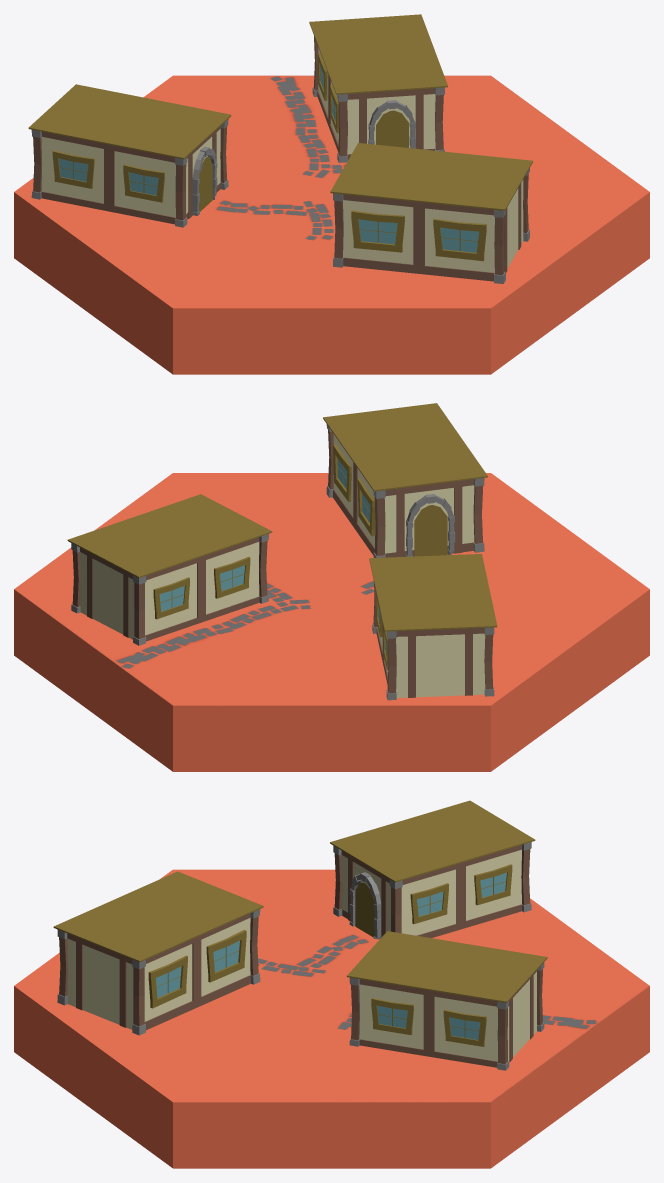
The model's file is Tuile_Village_N1.fbx.
The picture shows the model from 3 angles, top to bottom: view 1: azimuth 30°, elevation 25°; view 2: azimuth 150°, elevation 25°; view 3: azimuth 270°, elevation 25°; orthographic projection.
Visible parts, largest first — view 1: CHEMIN, socle.003, base House.003, socle.001, socle.002, base House.001, base House.002, windows bas.003, windows bas.001, poutre bas.001, poutre bas.004, door.002 (+3 smaller); view 2: CHEMIN, socle.003, base House.002, socle.002, socle.001, base House.001, base House.003, door.003, windows bas.002, poutre bas.005, poutre bas.001, poutre bas.004 (+1 smaller); view 3: CHEMIN, base House.003, socle.003, base House.002, socle.002, socle.001, base House.001, windows bas.003, windows bas.002, windows bas.001, poutre bas.001, poutre bas.005 (+2 smaller).
Boxes of the visible parts, left/top/right/bottom form: CHEMIN: left=14, top=75, right=649, bottom=374; socle.003: left=330, top=143, right=532, bottom=210; base House.003: left=343, top=179, right=523, bottom=281; socle.001: left=28, top=84, right=231, bottom=159; socle.002: left=309, top=14, right=447, bottom=94; base House.001: left=41, top=125, right=221, bottom=224; base House.002: left=317, top=47, right=435, bottom=159; windows bas.003: left=351, top=210, right=486, bottom=261; windows bas.001: left=52, top=150, right=164, bottom=202; poutre bas.001: left=333, top=168, right=529, bottom=283; poutre bas.004: left=31, top=119, right=228, bottom=227; door.002: left=368, top=100, right=415, bottom=148; CHEMIN: left=14, top=473, right=649, bottom=771; socle.003: left=323, top=403, right=487, bottom=491; base House.002: left=80, top=537, right=259, bottom=641; socle.002: left=67, top=494, right=272, bottom=577; socle.001: left=369, top=554, right=497, bottom=631; base House.001: left=376, top=623, right=485, bottom=697; base House.003: left=332, top=434, right=474, bottom=557; door.003: left=406, top=494, right=455, bottom=556; windows bas.002: left=153, top=556, right=250, bottom=619; poutre bas.005: left=71, top=534, right=268, bottom=645; poutre bas.001: left=326, top=424, right=484, bottom=557; poutre bas.004: left=372, top=582, right=494, bottom=700; CHEMIN: left=14, top=869, right=649, bottom=1168; base House.003: left=67, top=913, right=250, bottom=1030; socle.003: left=53, top=871, right=263, bottom=962; base House.002: left=359, top=970, right=537, bottom=1067; socle.002: left=346, top=931, right=547, bottom=1002; socle.001: left=330, top=800, right=535, bottom=882; base House.001: left=341, top=845, right=522, bottom=937; windows bas.003: left=148, top=930, right=246, bottom=1008; windows bas.002: left=371, top=998, right=486, bottom=1046; windows bas.001: left=410, top=864, right=512, bottom=924; poutre bas.001: left=57, top=909, right=260, bottom=1035; poutre bas.005: left=349, top=962, right=544, bottom=1070.
Bounding box in the file's own units: 107 × 30.53 × 124.
